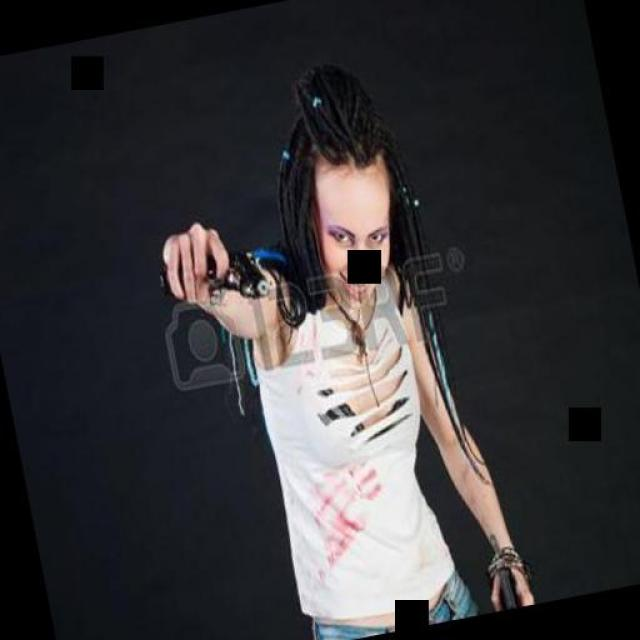gun: (148, 218, 282, 324), (472, 528, 528, 612)
